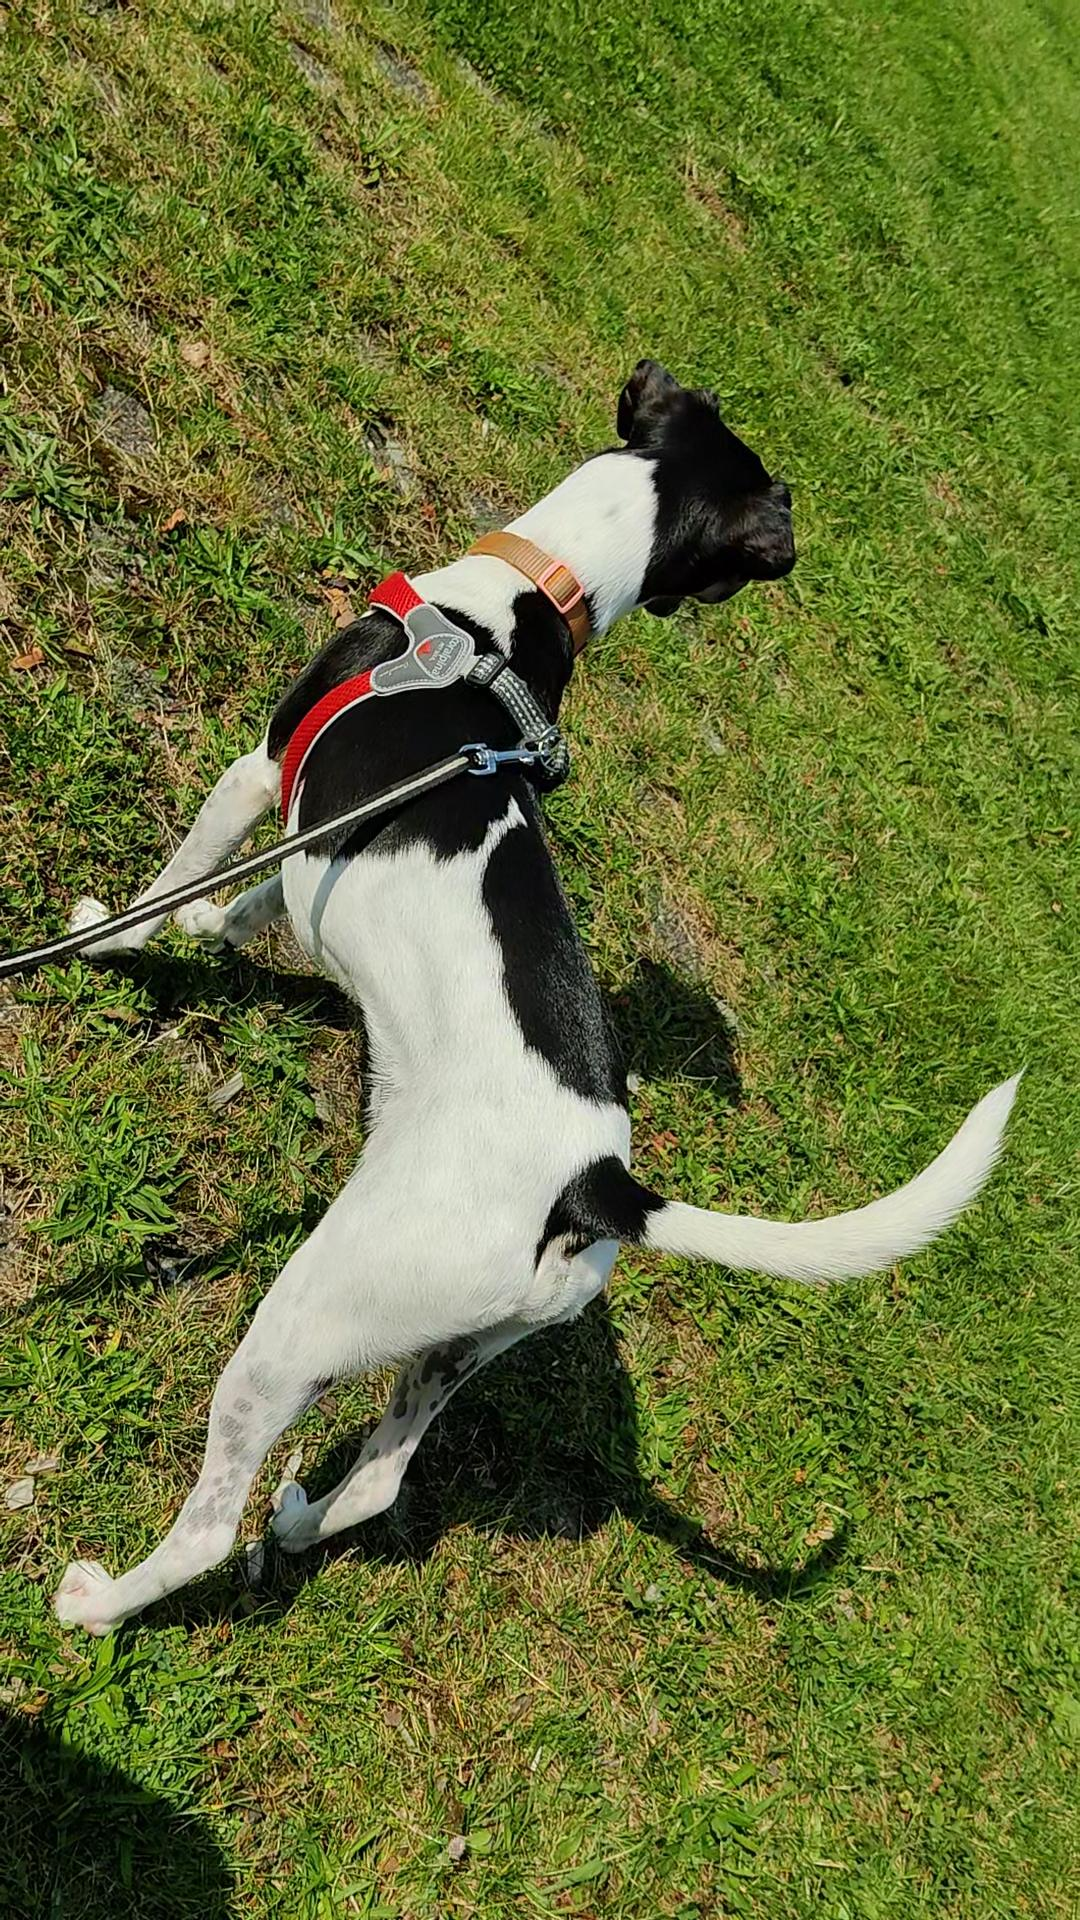Dog: (51, 356, 1034, 1636)
